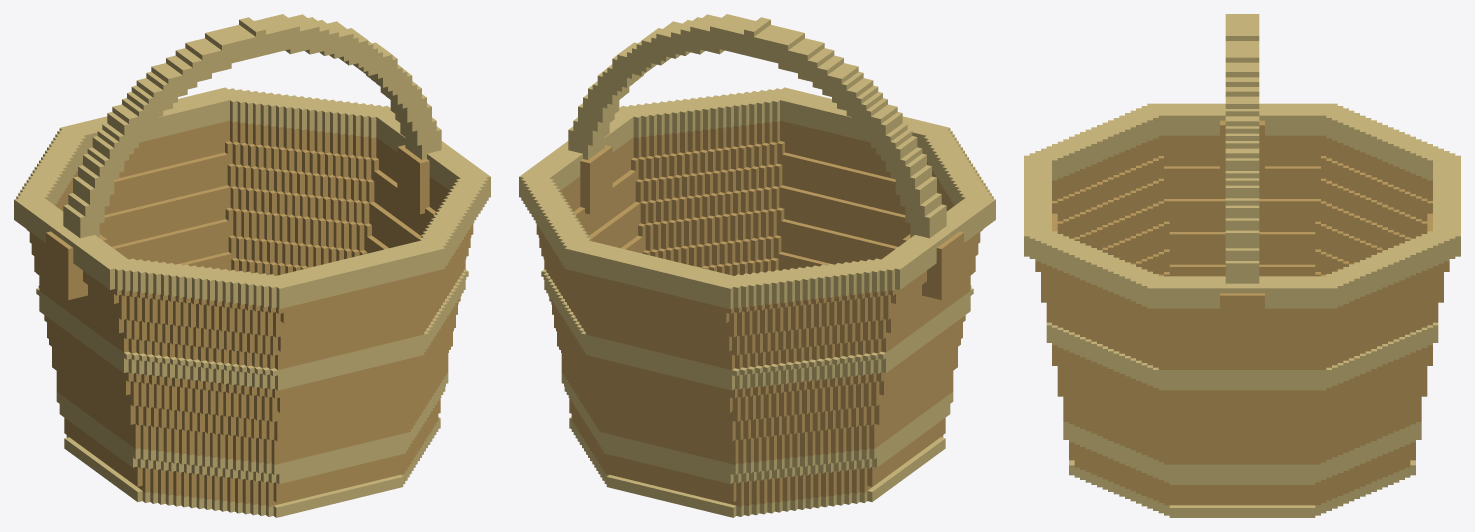
The model's file is straw_basket.glb.
3 renders of one model, left to right at view 1: azimuth 30°, elevation 25°; view 2: azimuth 150°, elevation 25°; view 3: azimuth 270°, elevation 25°, orthographic.
Visible parts, largest first — view 1: straw_basket:compound; view 2: straw_basket:compound; view 3: straw_basket:compound.
Part boxes in pixels (x1,y1,x2,y2): straw_basket:compound: (14,14,490,517); straw_basket:compound: (519,14,995,517); straw_basket:compound: (1024,14,1460,517).
Size of the model in its own units: 0.32 by 0.324 by 0.312.
